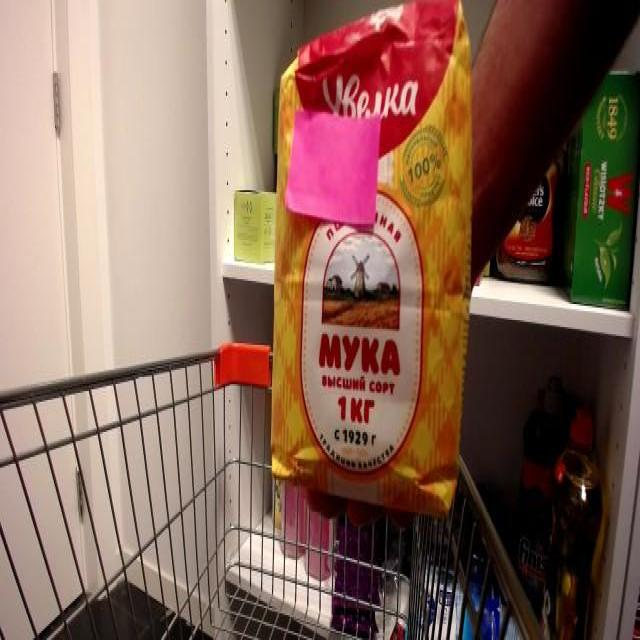Almond Milk: (262, 2, 472, 528)
